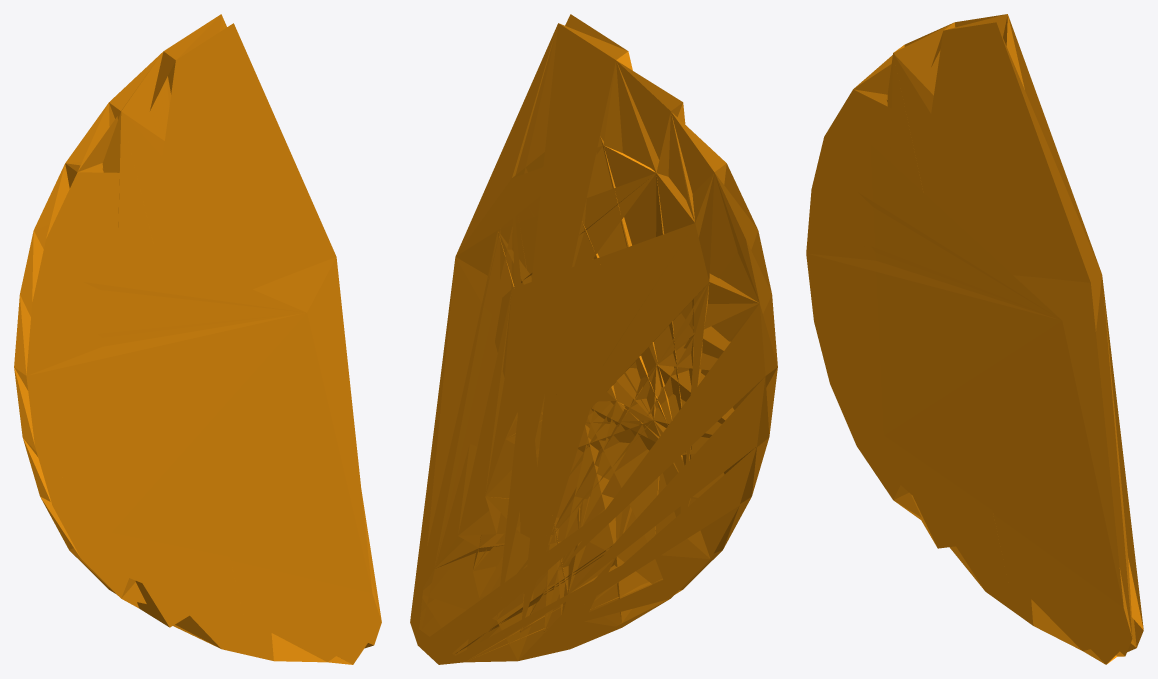
The model's file is S.S._Dolphin_fin_frame.obj.
The picture shows the model from 3 angles, left to right: view 1: azimuth 30°, elevation 25°; view 2: azimuth 150°, elevation 25°; view 3: azimuth 330°, elevation 25°; orthographic projection. The views are drawn at different scales.
Visible parts, largest first — view 1: S.S._Dolphin_fin_frame; view 2: S.S._Dolphin_fin_frame; view 3: S.S._Dolphin_fin_frame.
Boxes of the visible parts, x1,y1,x2,y2 form: S.S._Dolphin_fin_frame: (14, 14, 381, 664); S.S._Dolphin_fin_frame: (410, 14, 777, 664); S.S._Dolphin_fin_frame: (806, 14, 1143, 664).
Bounding box in the file's own units: 2 × 3.61 × 0.1283.
